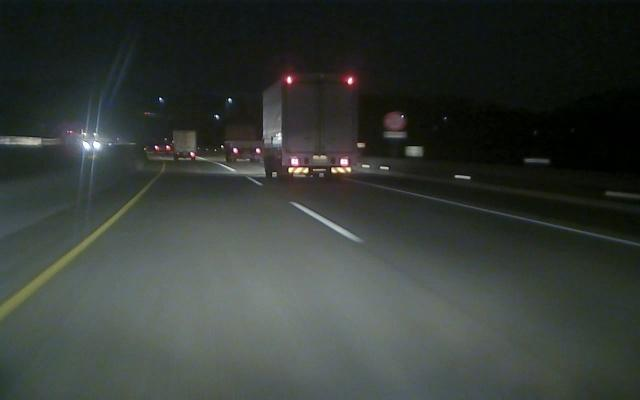lane: (1, 191, 143, 321), (370, 184, 637, 248), (288, 198, 367, 246)
